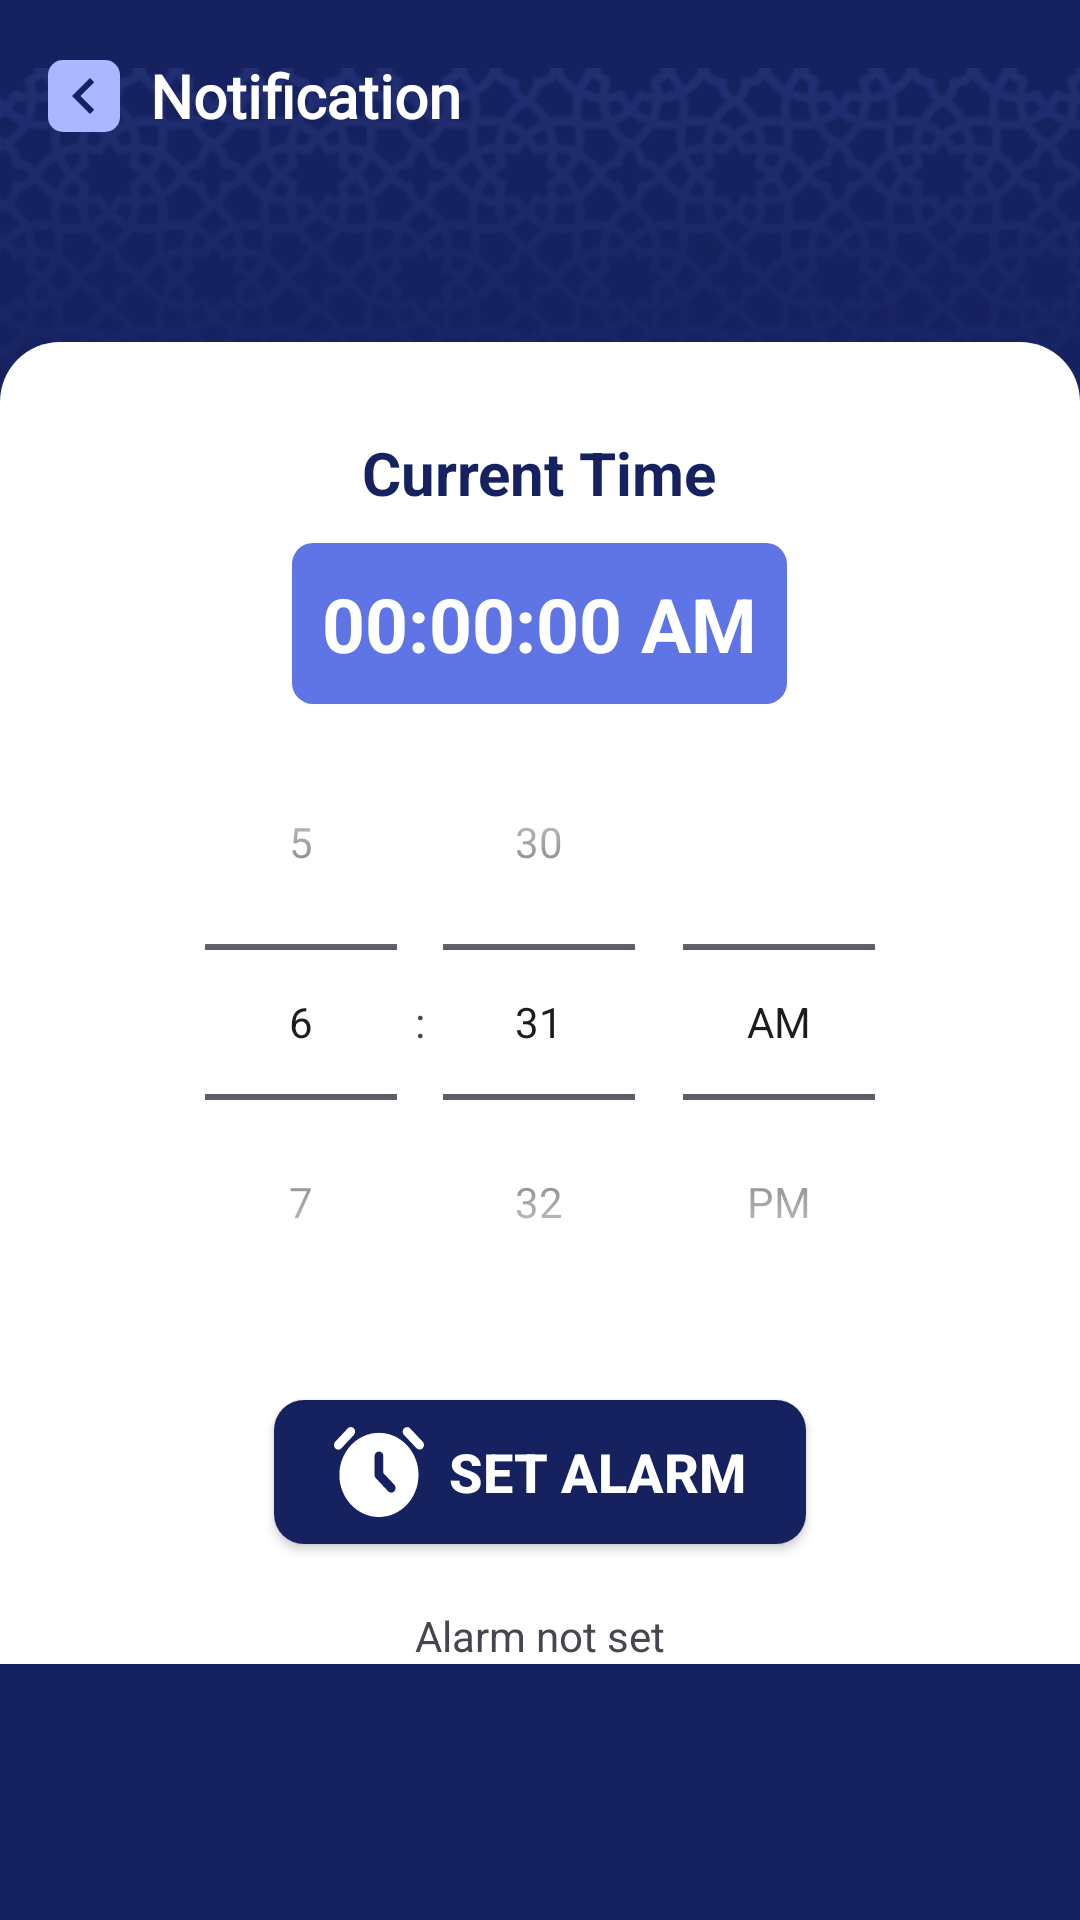

Named icons in this screenshot (1080 × 1920) and their centers, [x,y]:
chevron left: [84,96]
